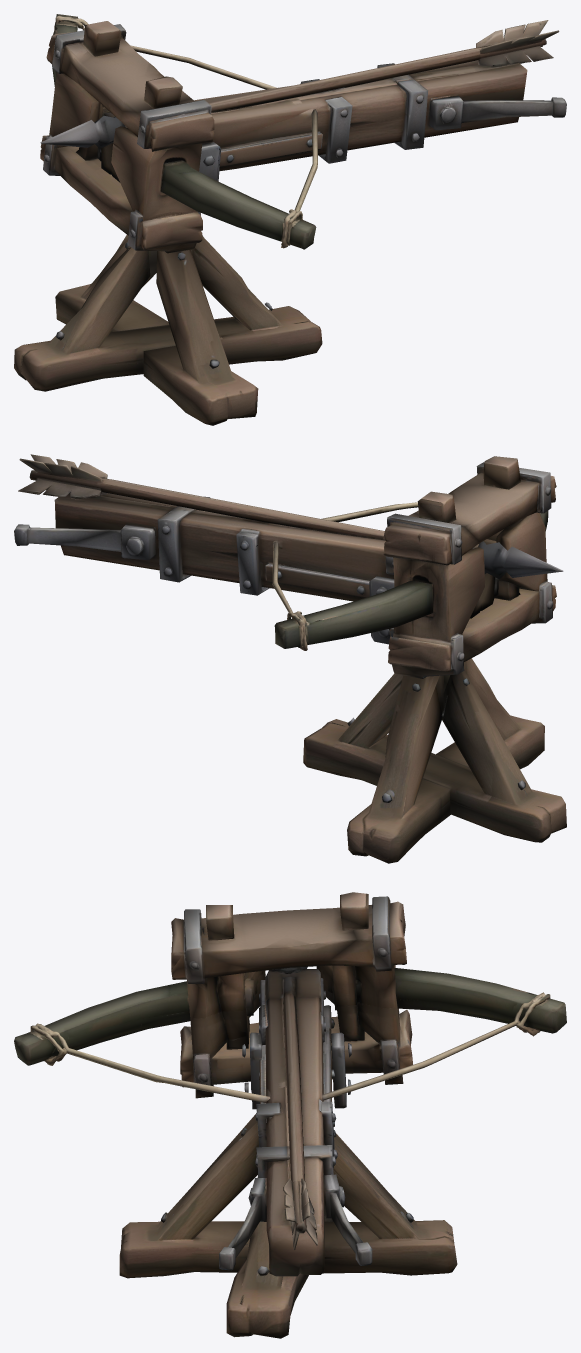
Rendered from ballista-fantasy.glb.
The picture shows the model from 3 angles, top to bottom: view 1: azimuth 30°, elevation 25°; view 2: azimuth 150°, elevation 25°; view 3: azimuth 270°, elevation 25°; orthographic projection. The views are drawn at different scales.
Parts seen in each view (by area): view 1: tripo_node_b94a0b00-aa3f-4704-bca3-cc76c073abb0; view 2: tripo_node_b94a0b00-aa3f-4704-bca3-cc76c073abb0; view 3: tripo_node_b94a0b00-aa3f-4704-bca3-cc76c073abb0.
Part boxes in pixels (<box>): tripo_node_b94a0b00-aa3f-4704-bca3-cc76c073abb0: <box>14,14,566,425</box>; tripo_node_b94a0b00-aa3f-4704-bca3-cc76c073abb0: <box>14,454,566,863</box>; tripo_node_b94a0b00-aa3f-4704-bca3-cc76c073abb0: <box>14,892,566,1338</box>.
Bounding box in the file's own units: 0.998 × 0.5918 × 0.8379.
Materials: 1 (1 with a texture image).
